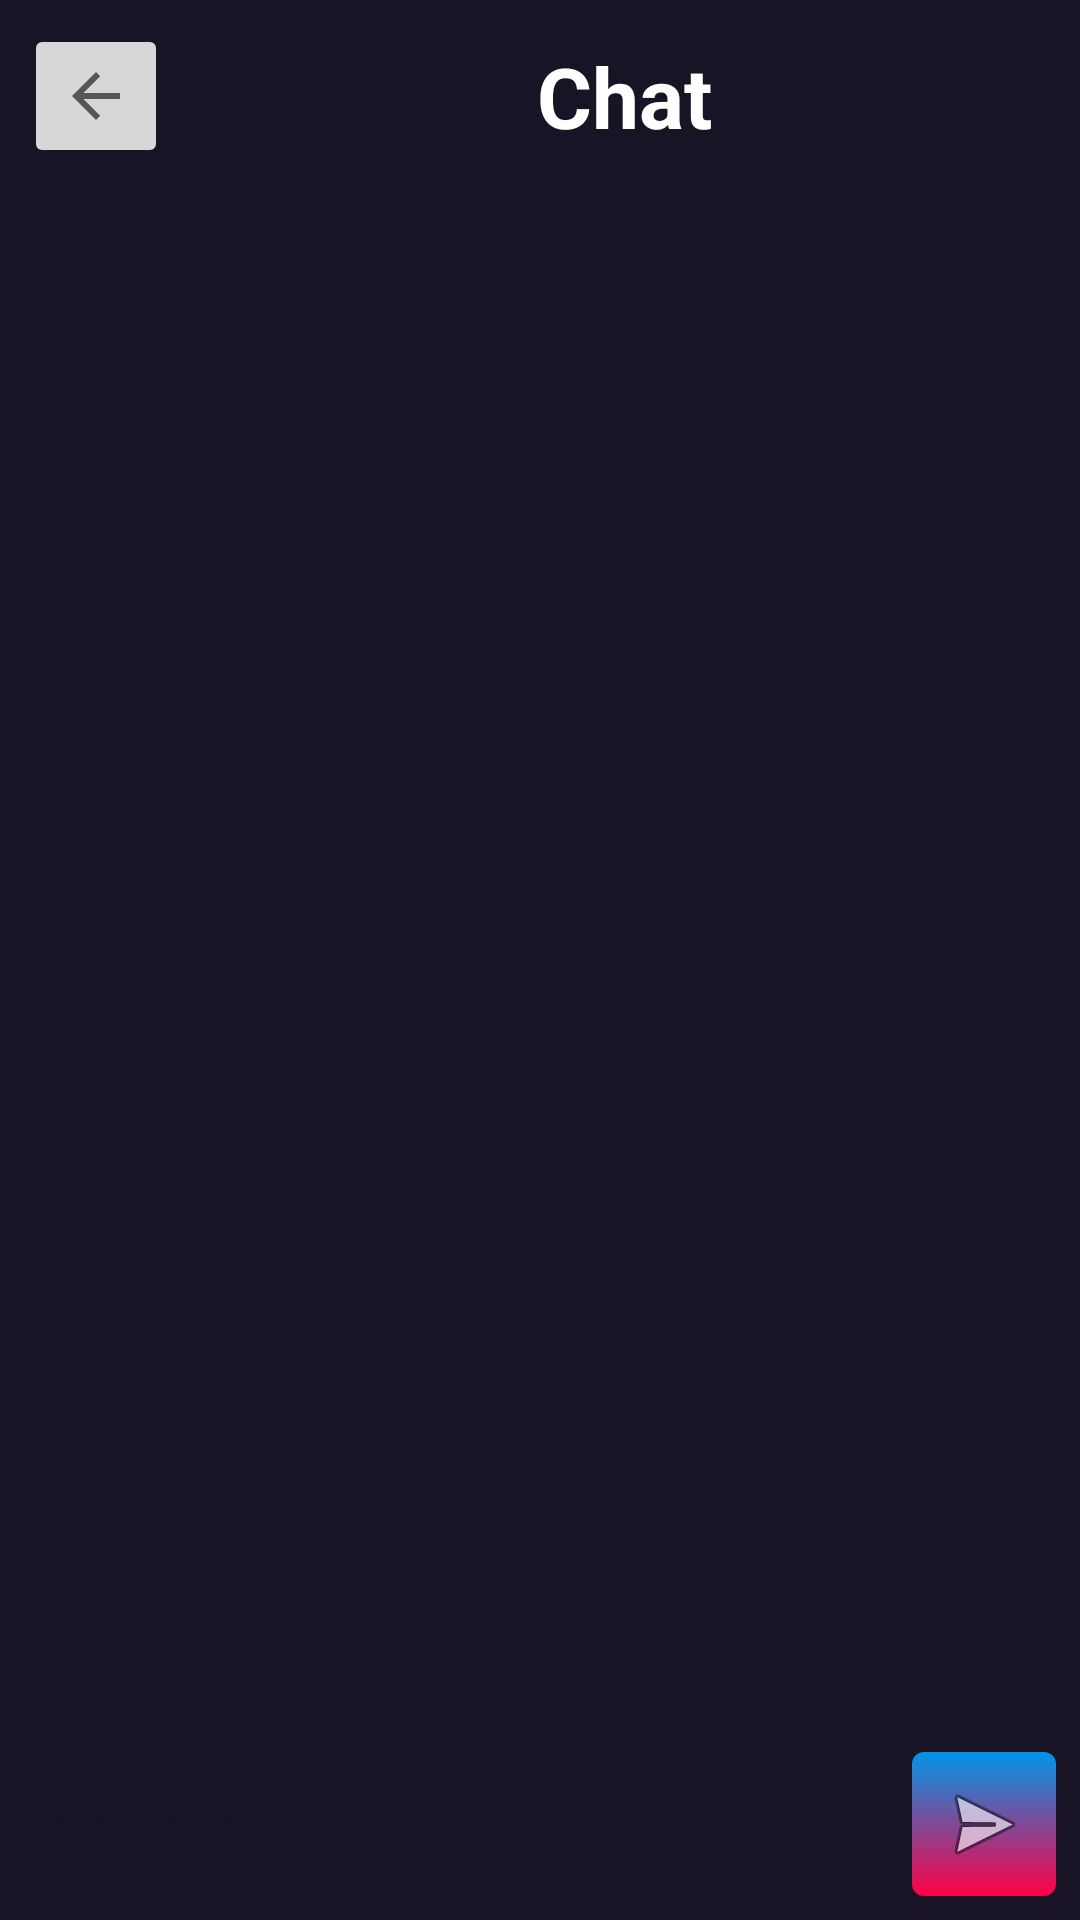

Named icons in this screenshot (1080 x 1920) and their bounding boxes, (x1, y1, x2, y2):
Back: (36, 42, 156, 150)
Send: (912, 1752, 1056, 1896)
